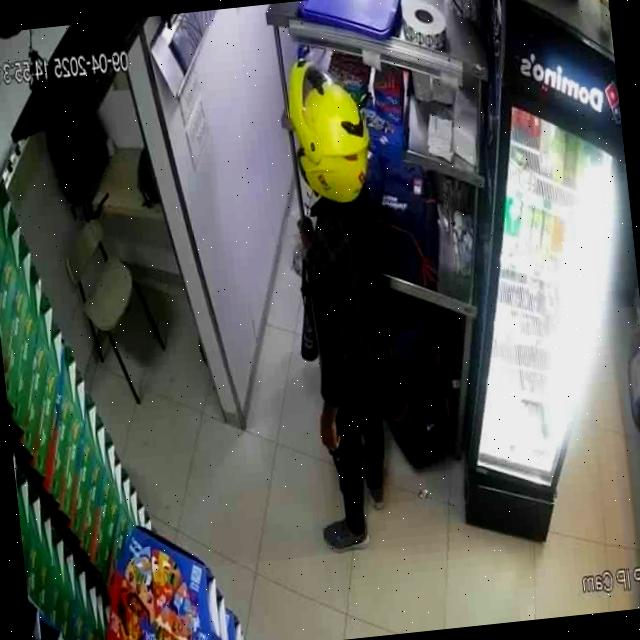helmet: (290, 57, 370, 203)
